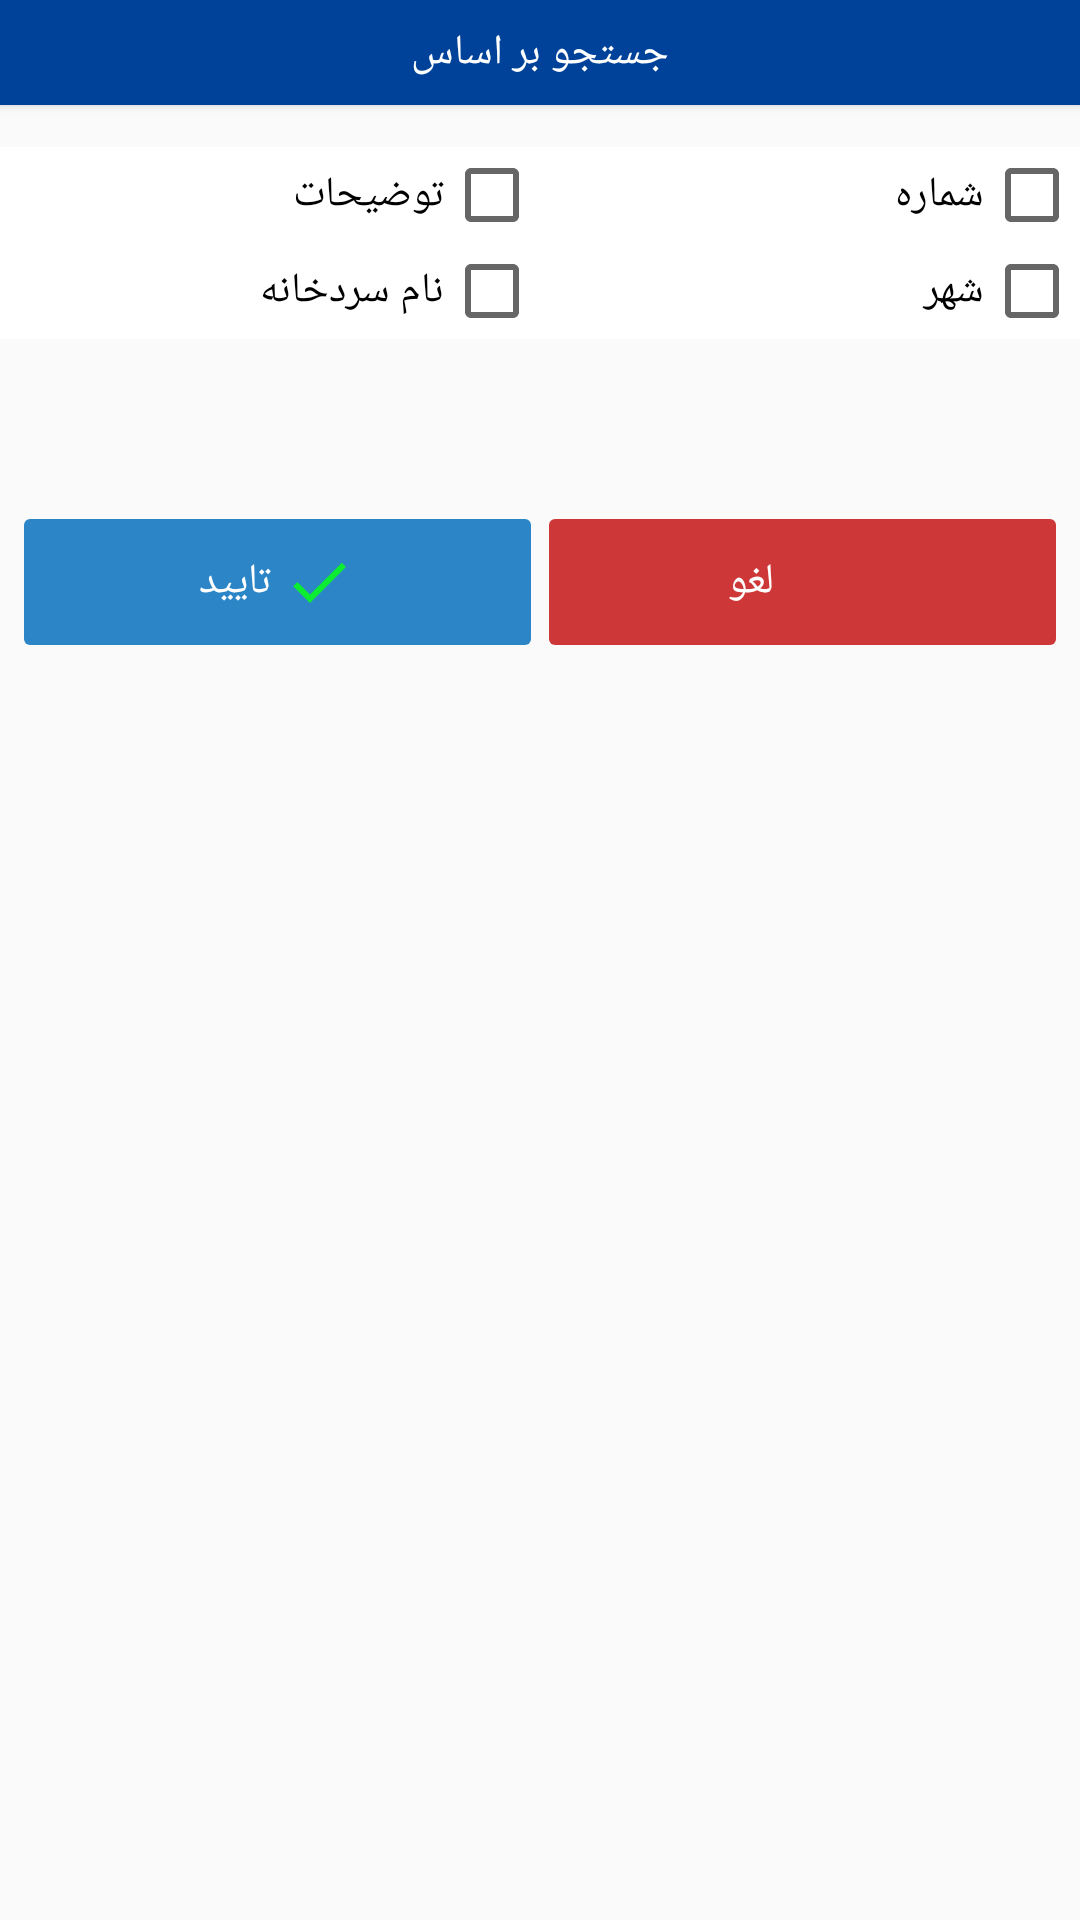

Where icons sit on this 1080w x 1920h app screen, as (x1=x1, y1=y1, x2=x2, y2=y2):
done: (x1=293, y1=563, x2=346, y2=603)
